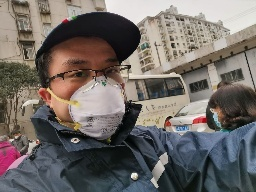correctlyWear: (36, 49, 131, 139), (208, 94, 236, 129)
